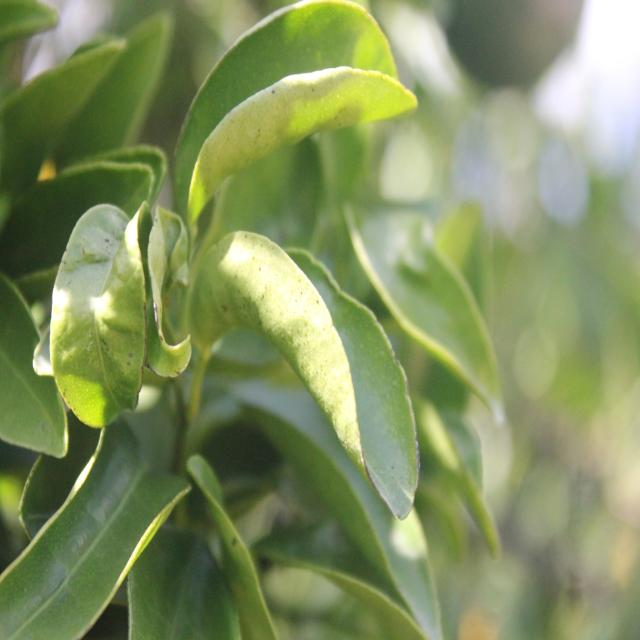melanose: (211, 230, 403, 496)
